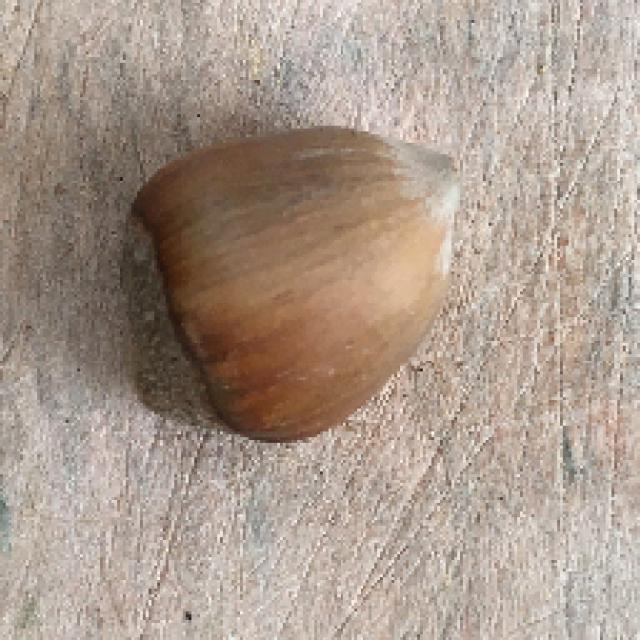damagedHazelnut: (109, 130, 481, 452)
